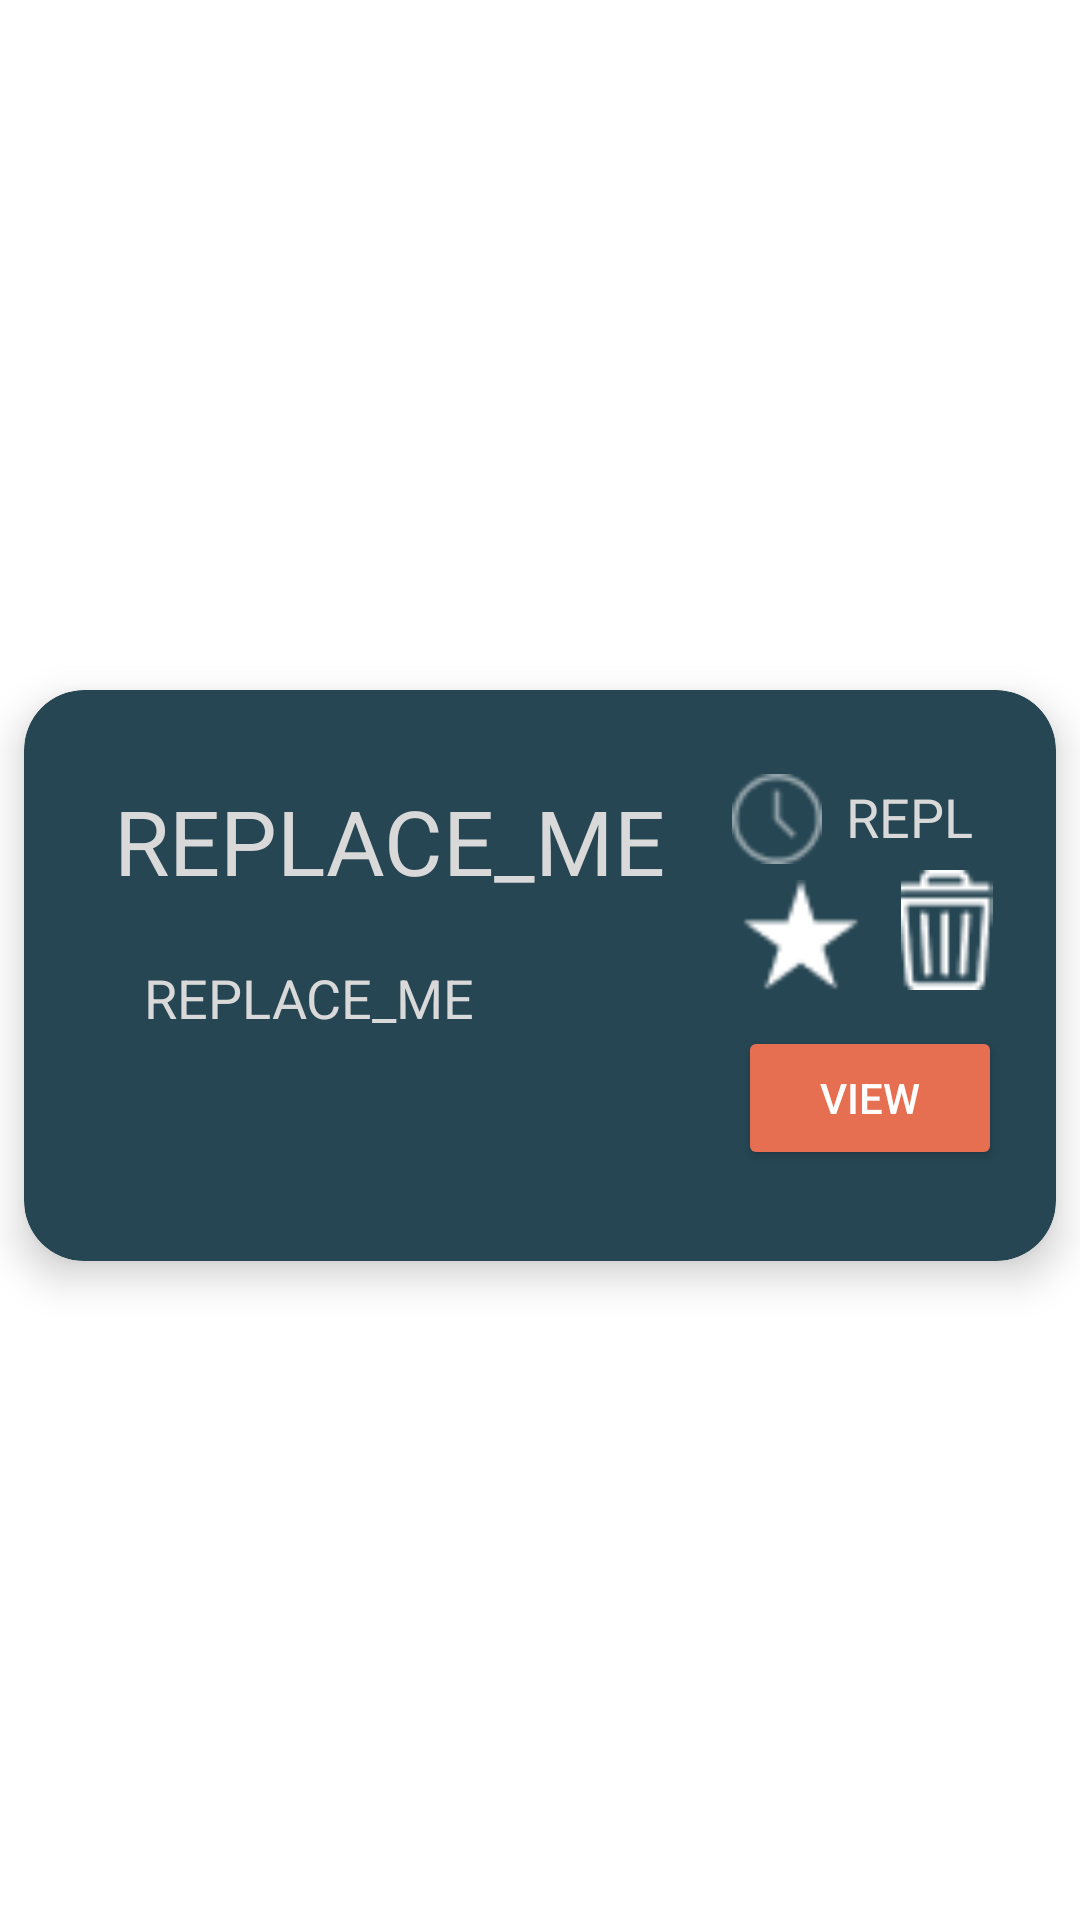

Point at icon controls on the screen. Image size 1080px x 1920px, points as [x,y].
bin: [947,930]
clock: [777,819]
star: [801,934]
